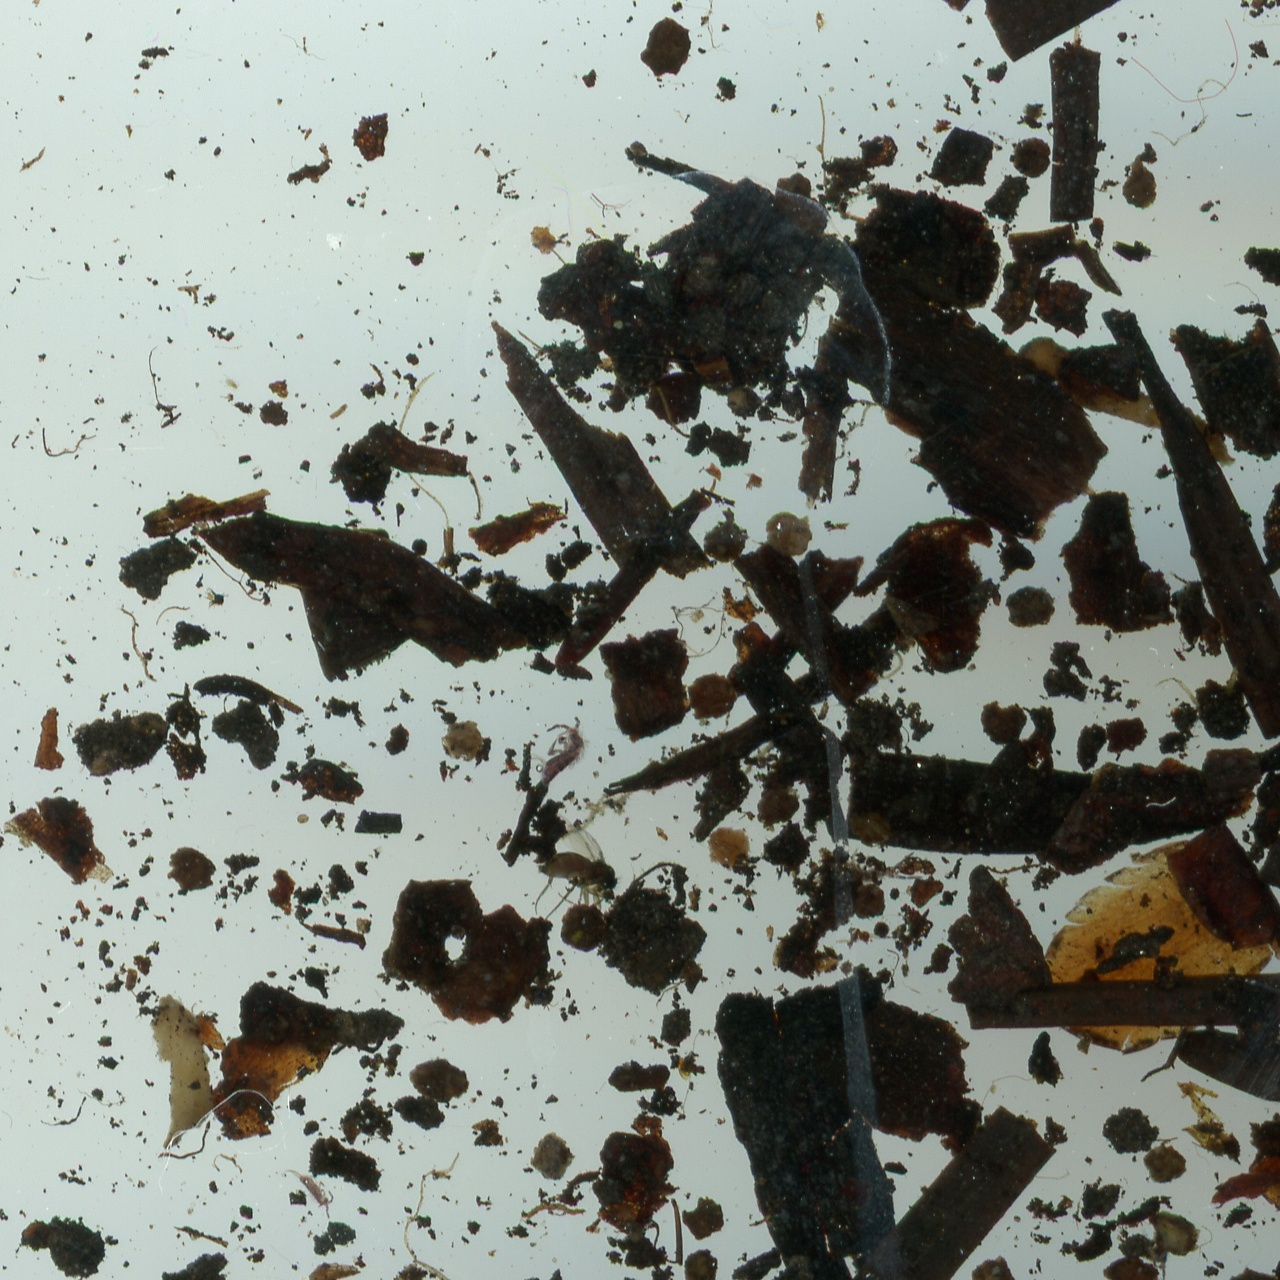arthropod: (532, 824, 619, 927), (540, 714, 585, 785), (287, 1167, 336, 1219)
